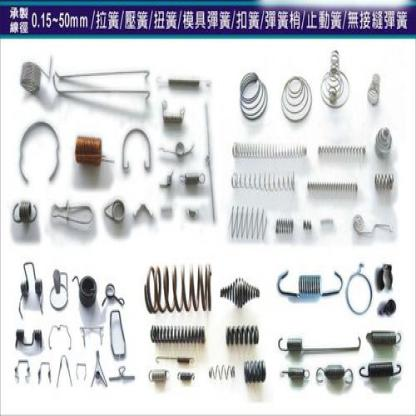FOD: (142, 263, 215, 315), (274, 265, 344, 304), (276, 330, 362, 360), (229, 167, 298, 195), (238, 64, 270, 124), (226, 203, 271, 243), (320, 48, 350, 108), (232, 139, 310, 161), (147, 321, 208, 348), (18, 52, 54, 97), (218, 275, 263, 310), (316, 136, 369, 165), (281, 74, 313, 122), (74, 134, 116, 169), (359, 357, 404, 382), (224, 321, 261, 351), (306, 178, 360, 198), (314, 362, 355, 388), (365, 328, 403, 351), (14, 327, 45, 354), (373, 123, 394, 162), (242, 356, 268, 386), (12, 197, 38, 227), (100, 280, 126, 310), (160, 98, 186, 127), (102, 197, 127, 226), (206, 361, 237, 384), (280, 363, 311, 383), (146, 366, 172, 387), (178, 168, 206, 187), (373, 168, 395, 191), (275, 215, 295, 238), (14, 357, 31, 381), (176, 368, 196, 385), (301, 216, 314, 233)
